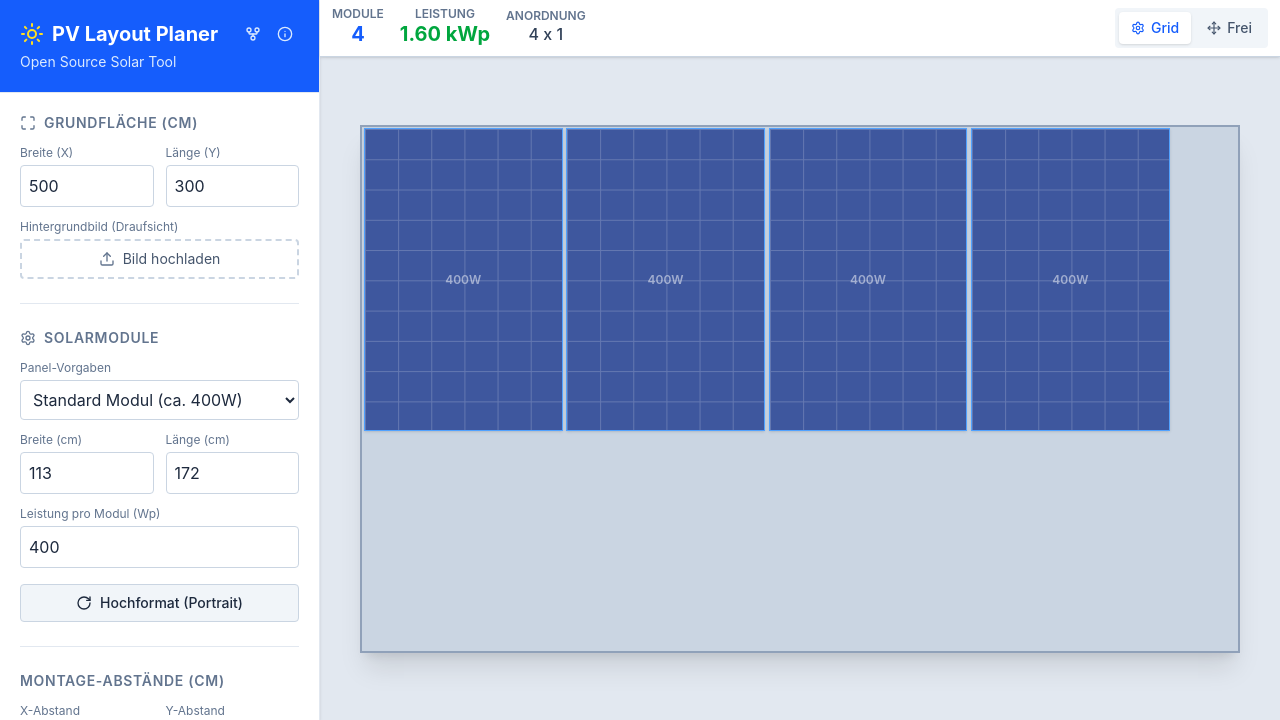
Test case: App › updates panel orientation when button is clicked
The image size is (1280, 720).
What coordinates should you click on to do the following:
click the button with aria-label "switch to landscape"
I would click on:
 (160, 603)
Its box is [20,584,299,622].
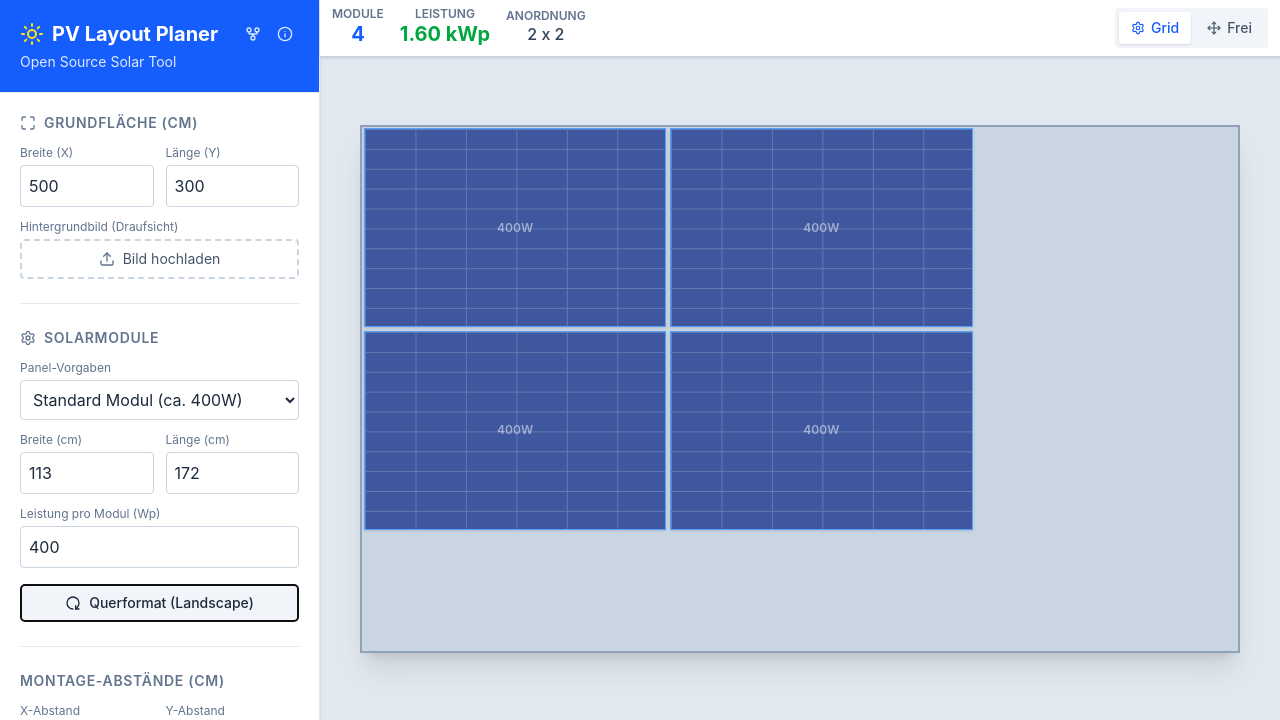
Check: the button with aria-label "switch to portrait" is shown, box [20,584,299,622]
